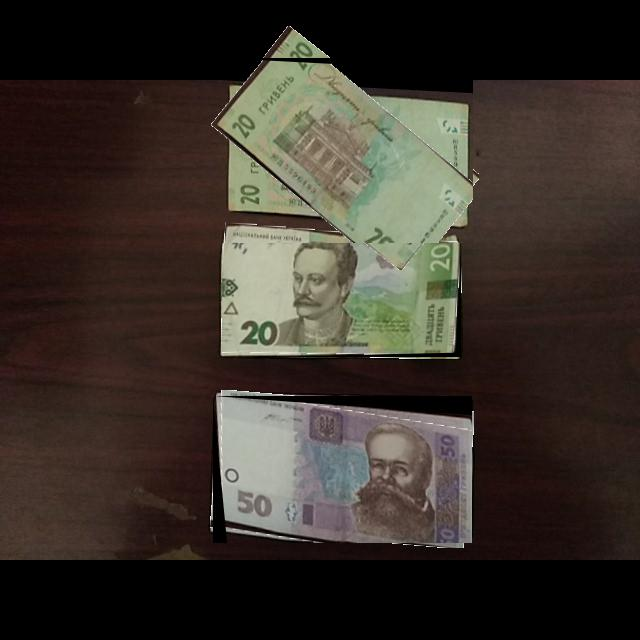20uah: (218, 58, 474, 244), (222, 224, 462, 358)
50uah: (213, 396, 473, 544)
